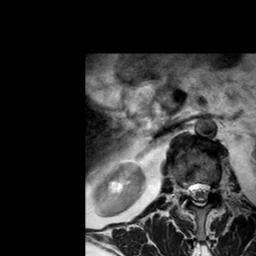CCS_normal: (195, 171, 202, 213)
LFS_stenosis: (209, 175, 217, 201)
LLS_normal: (202, 172, 209, 208)
RFS_normal: (179, 175, 187, 203)
RLS_normal: (187, 175, 195, 205)
